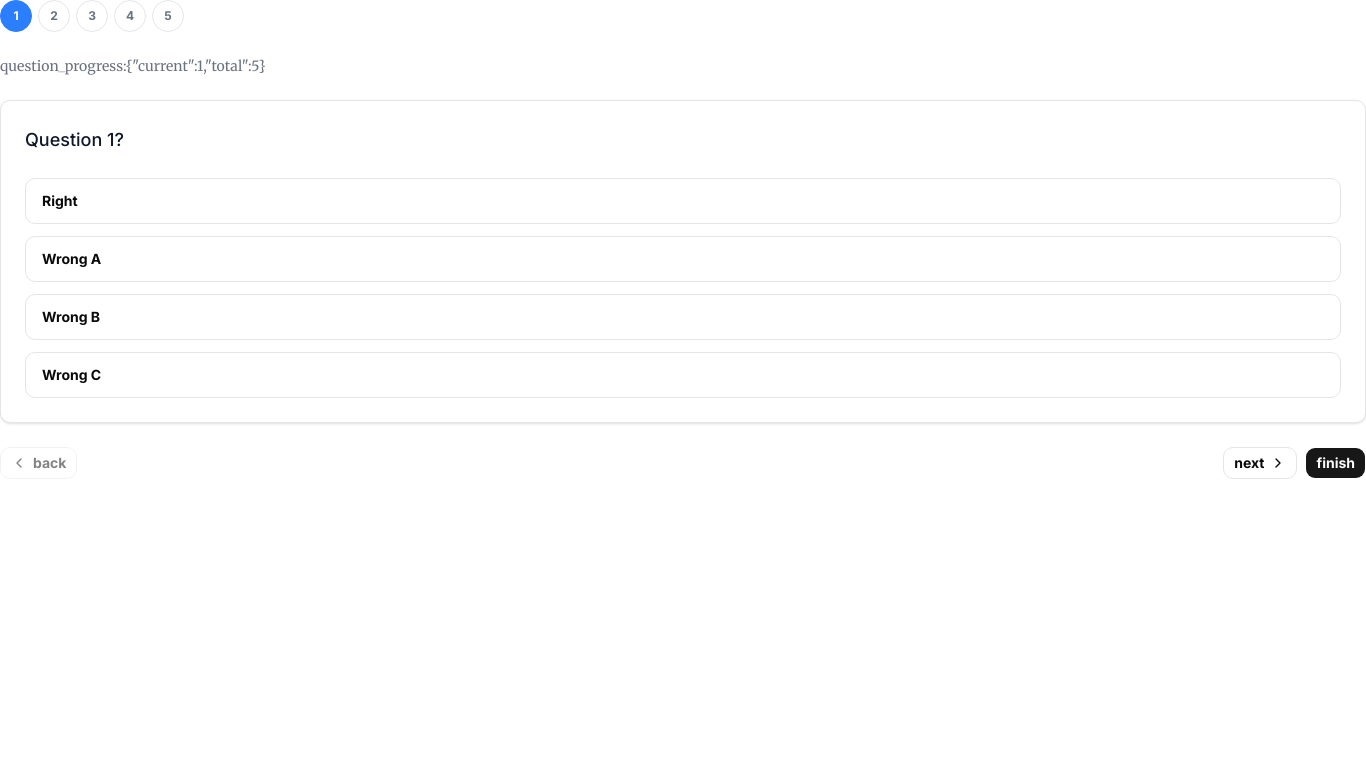
Scenario: QuizPlayer — finish confirmation dismissal (#666) › dismisses it when the student goes Back
Click the button "next" at (1260, 463), box [1223,447,1297,479]
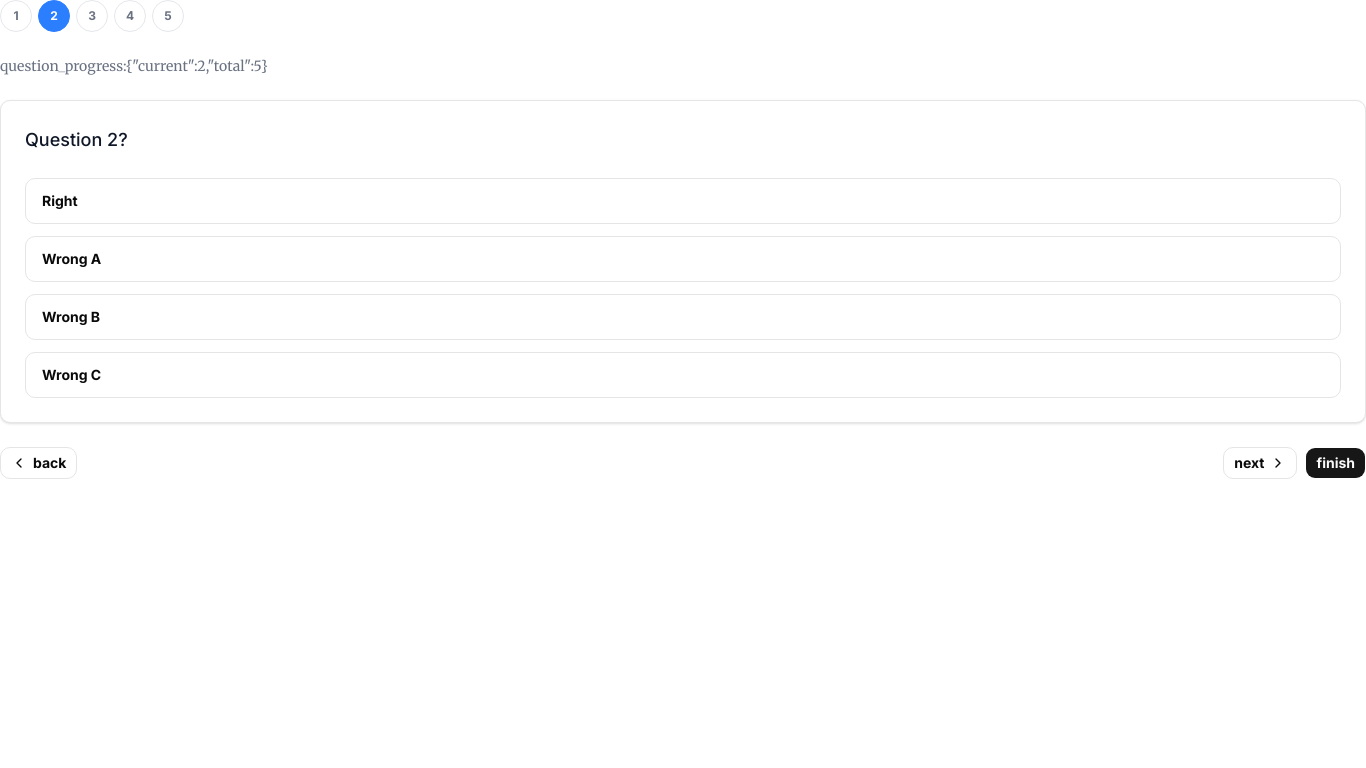
Click the button "next" at (1260, 463), box [1223,447,1297,479]
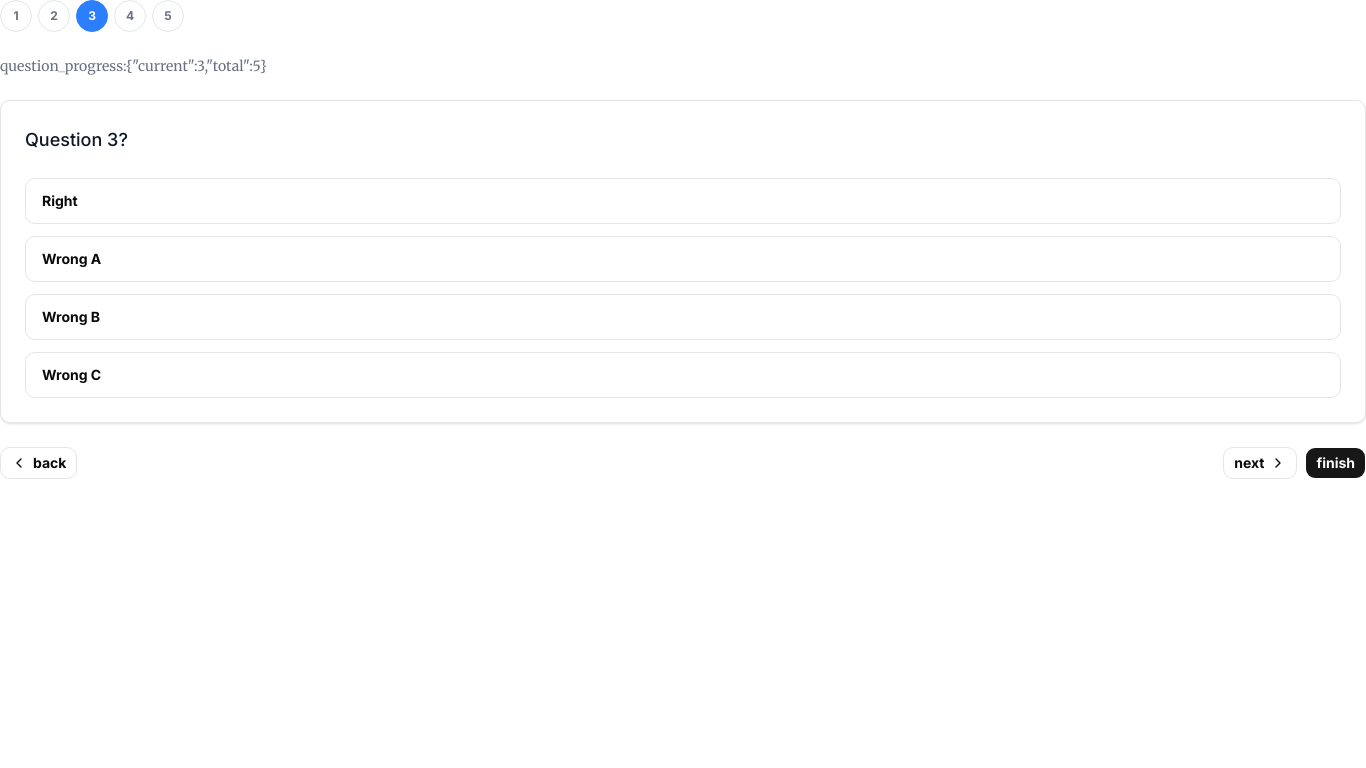
Click the button "next" at (1260, 463), box [1223,447,1297,479]
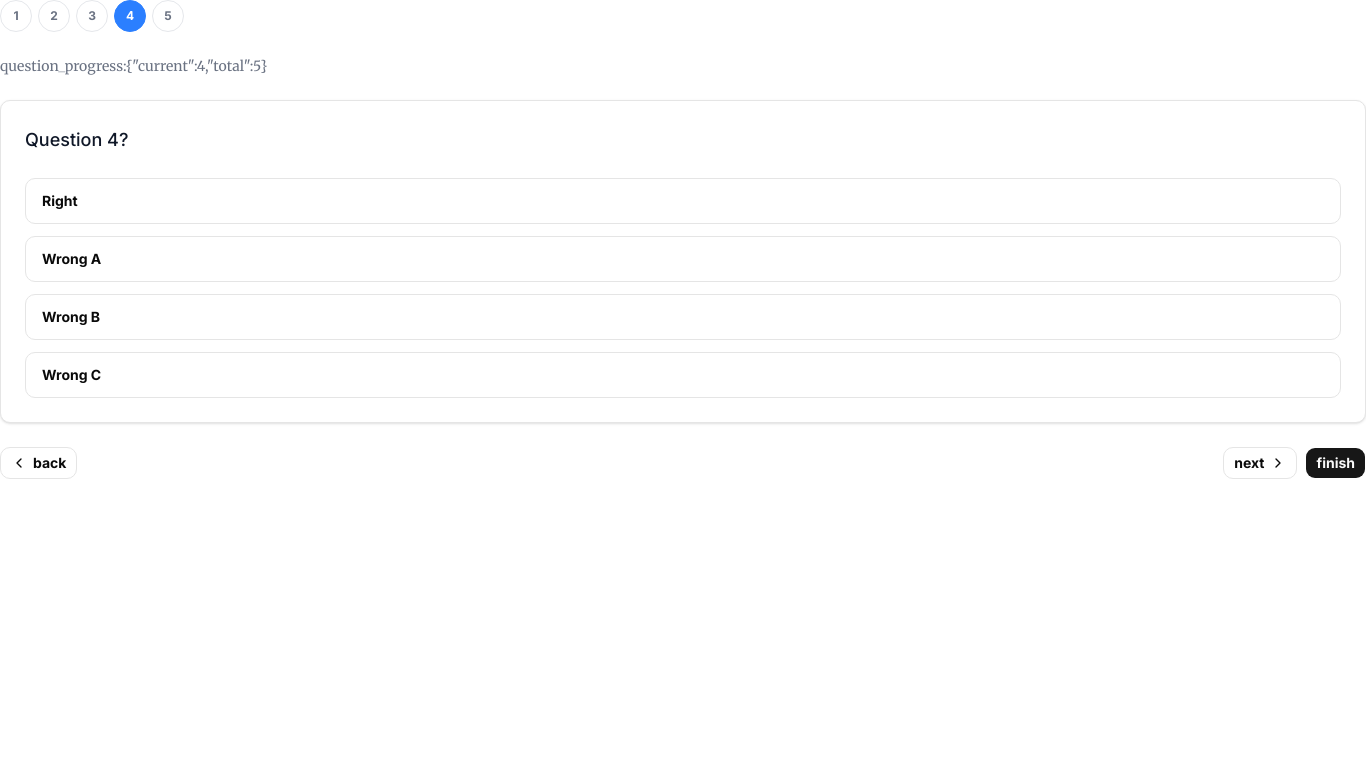
Click the button "next" at (1260, 463), box [1223,447,1297,479]
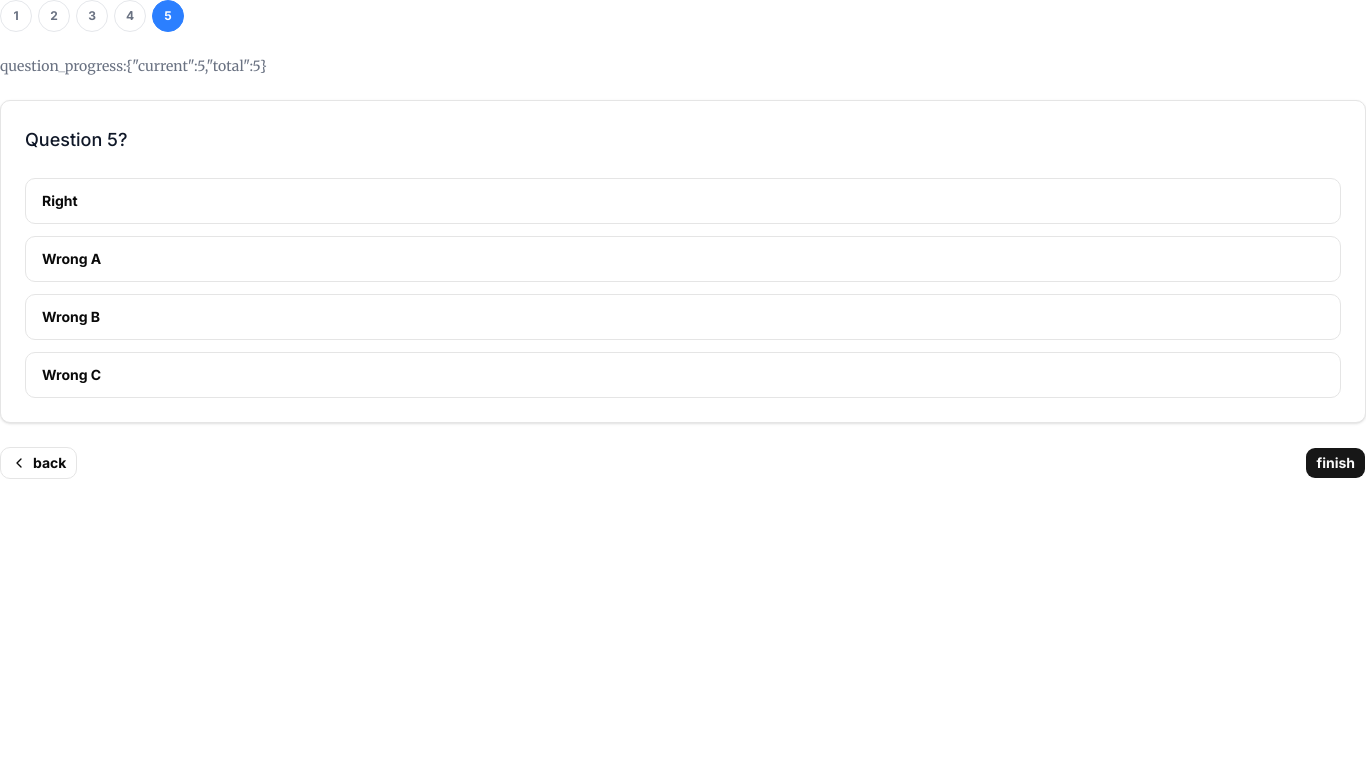
Click the button "finish" at (1336, 463), box [1305,447,1365,479]
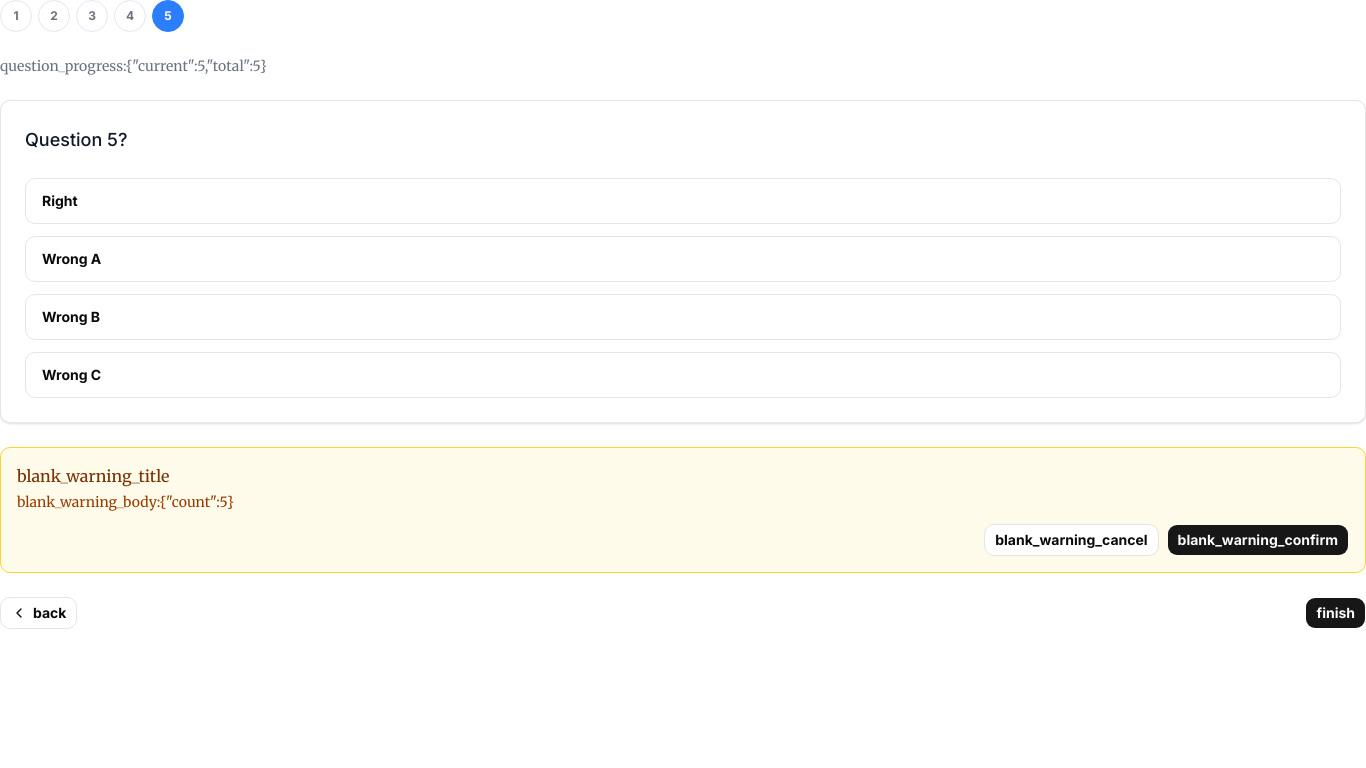
Click the button "back" at (39, 613), box [0,597,78,629]
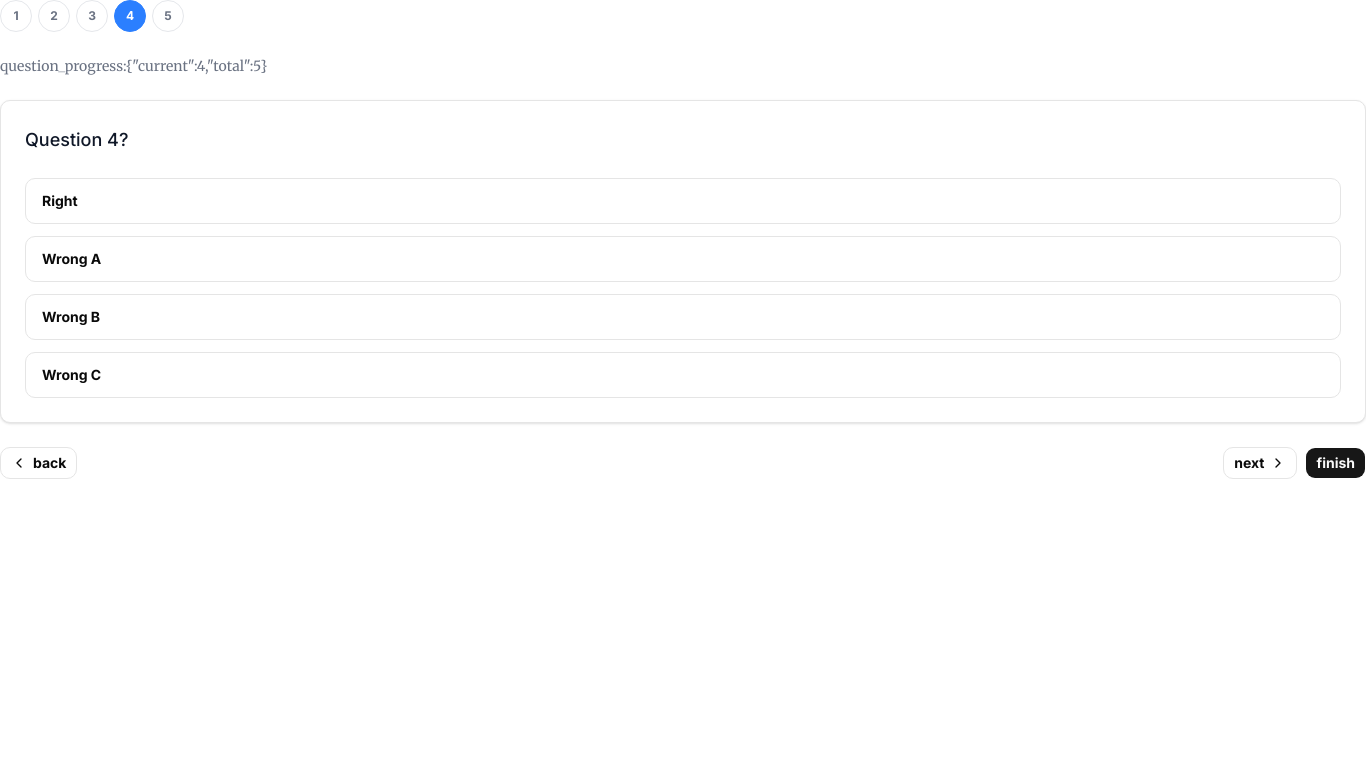
expect the dialog is gone: met
